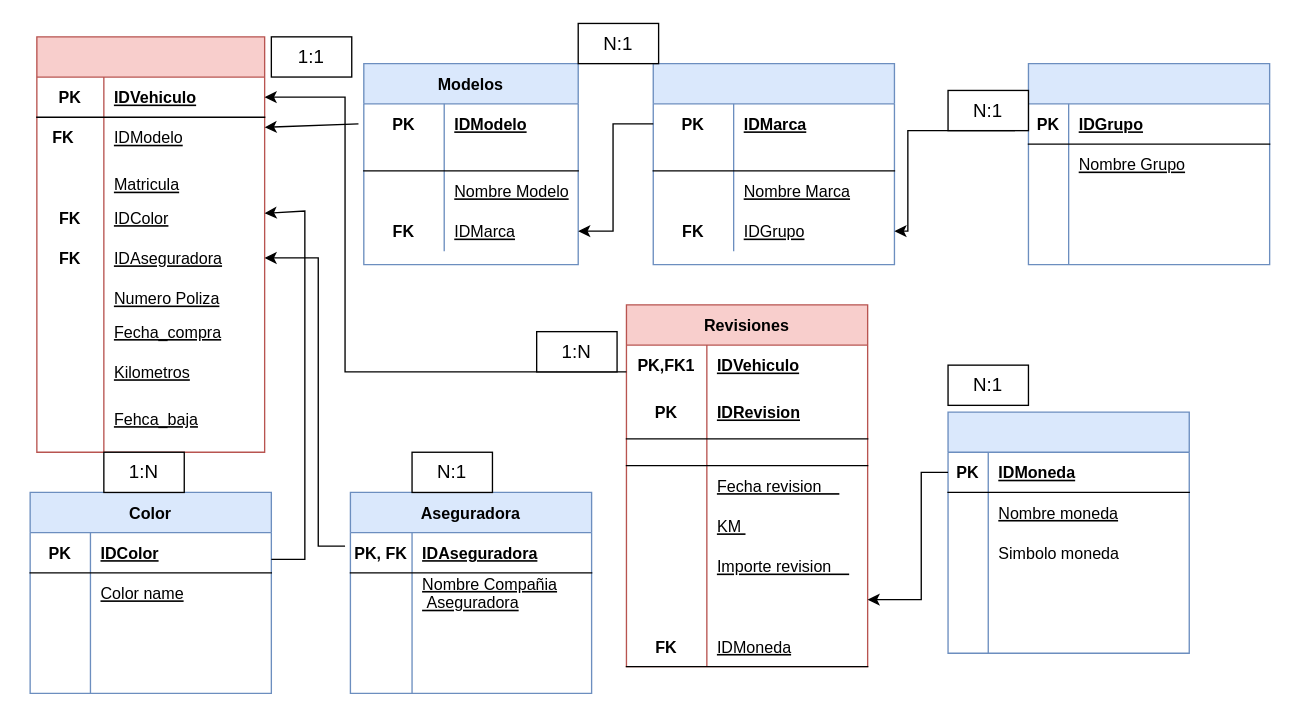
This 1293x717 diagram has some shape labels left out. The shapes that lost their labels are listed below. From the top down, each one's box as (x1, y1, x2, y2) in pixels, then its label:
(652, 62, 894, 265): Marca
(1027, 62, 1270, 265): Grupo Empresarial
(36, 36, 265, 452): Vehiculo
(947, 411, 1189, 653): Moneda
